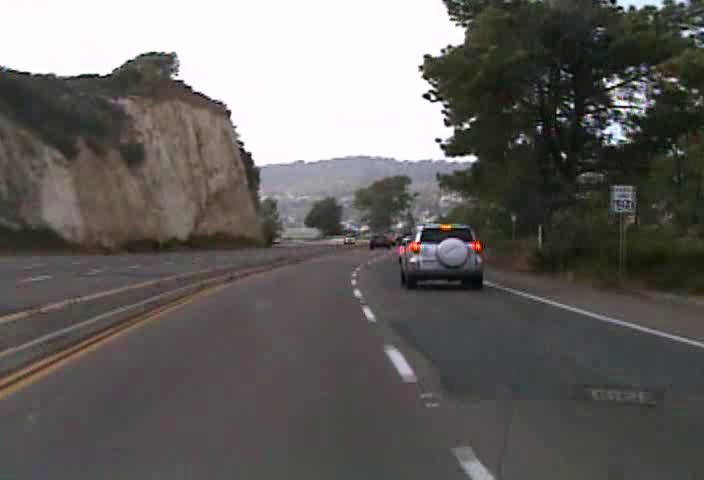speedLimitUrdbl: (610, 184, 636, 214)
